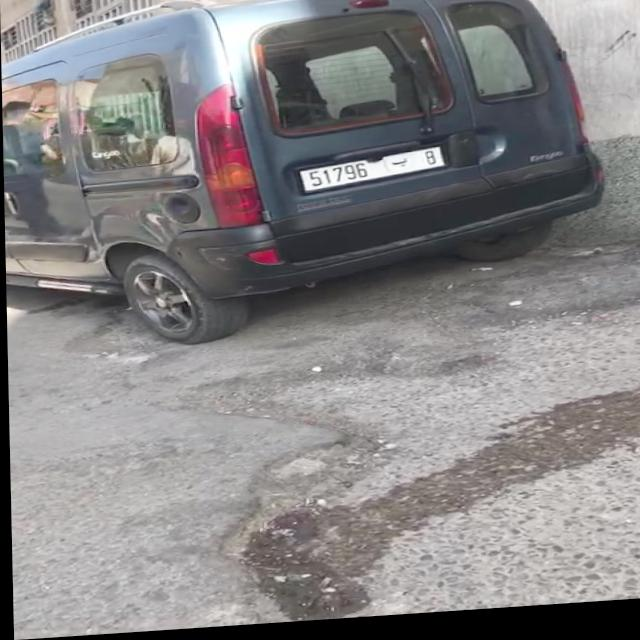License-Plate: (299, 154, 445, 196)
